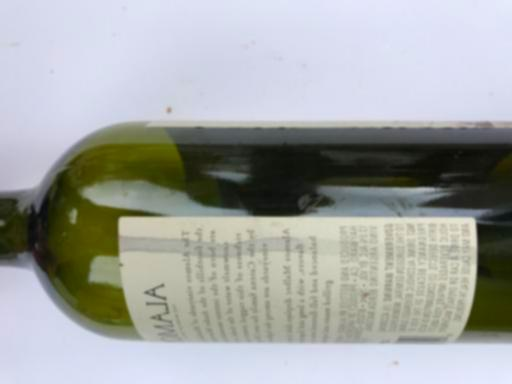alcohol: (1, 119, 512, 343)
glass: (1, 119, 512, 343)
sodocalcique: (1, 119, 512, 343)
